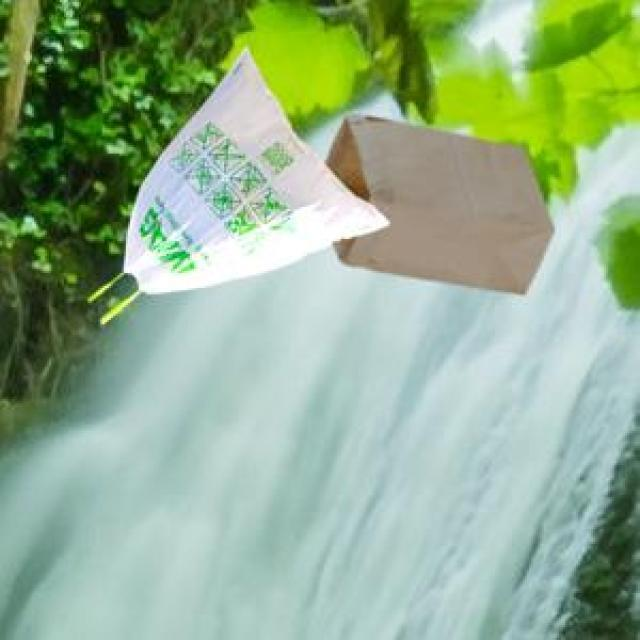paper: (322, 111, 550, 290)
